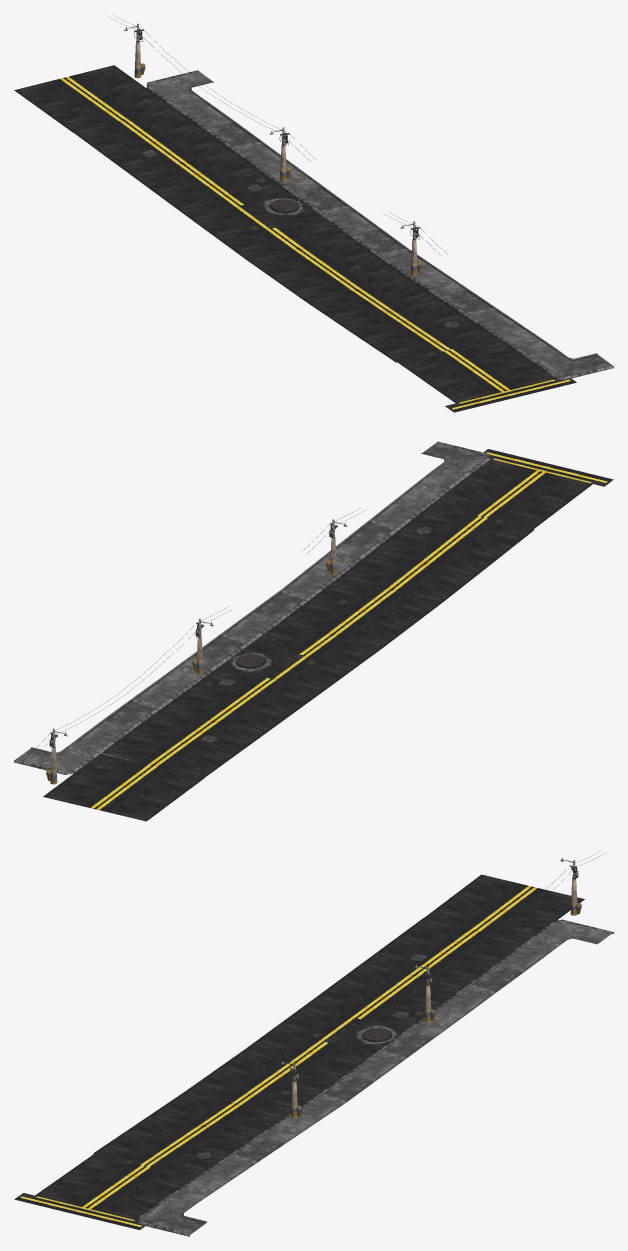
File: Street_First.fbx
The picture shows the model from 3 angles, top to bottom: view 1: azimuth 30°, elevation 25°; view 2: azimuth 150°, elevation 25°; view 3: azimuth 330°, elevation 25°; orthographic projection. The views are drawn at different scales.
Visible parts, largest first — view 1: Asfalt_Patch1_003, Bordura_corner2_001, Stalp_Wire_001; view 2: Asfalt_Patch1_003, Bordura_corner2_001, Stalp_Wire_001; view 3: Asfalt_Patch1_003, Bordura_corner2_001, Stalp_Wire_001.
Part boxes in pixels (<box>): Asfalt_Patch1_003: <box>14,65,576,412</box>; Bordura_corner2_001: <box>146,70,613,379</box>; Stalp_Wire_001: <box>109,16,447,275</box>; Asfalt_Patch1_003: <box>43,449,613,821</box>; Bordura_corner2_001: <box>14,441,490,774</box>; Stalp_Wire_001: <box>22,508,366,784</box>; Asfalt_Patch1_003: <box>14,874,584,1229</box>; Bordura_corner2_001: <box>137,919,613,1236</box>; Stalp_Wire_001: <box>263,850,604,1117</box>.
Bounding box in the file's own units: 19.74 × 6.38 × 95.01.
